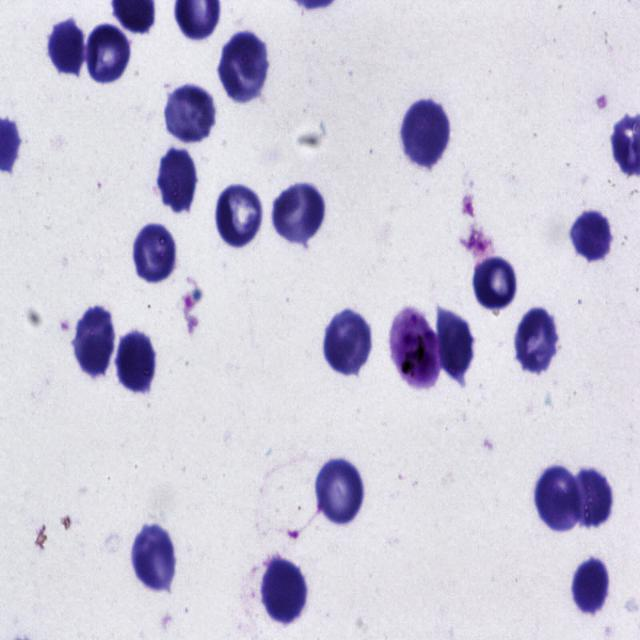red blood cell: (218, 33, 267, 104), (401, 99, 452, 167), (214, 186, 266, 251), (315, 459, 363, 527), (274, 181, 324, 246), (163, 84, 217, 144), (83, 22, 132, 86), (323, 311, 372, 375), (513, 311, 561, 375), (260, 560, 308, 624), (535, 467, 582, 532), (130, 523, 173, 593), (131, 222, 178, 286), (73, 306, 115, 377), (471, 256, 519, 312), (156, 150, 198, 212), (573, 468, 614, 529), (438, 313, 474, 382), (116, 331, 156, 393), (571, 555, 611, 614), (570, 210, 614, 263), (48, 20, 86, 75)
schizont: (389, 308, 438, 389)
